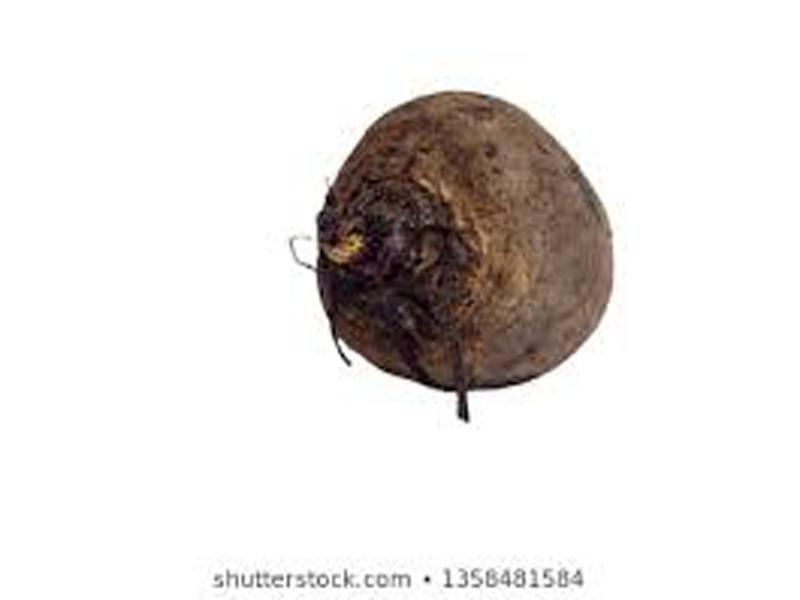Beet: (320, 92, 616, 388)
